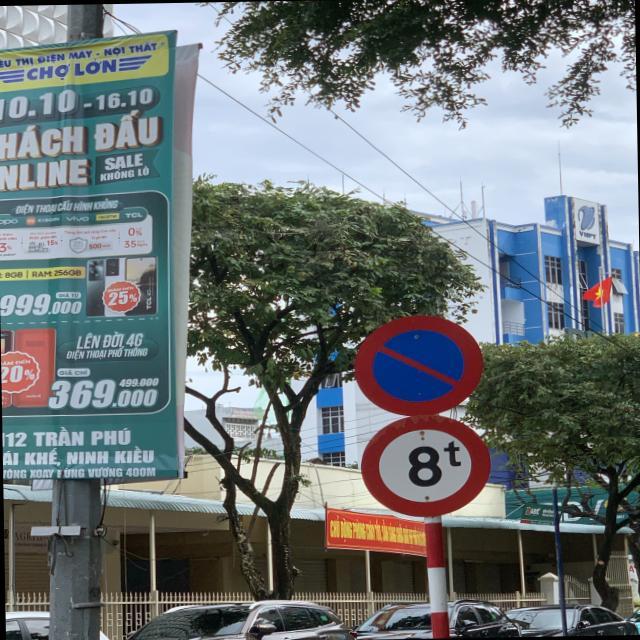Cam_Dau_Xe: (352, 315, 486, 416)
